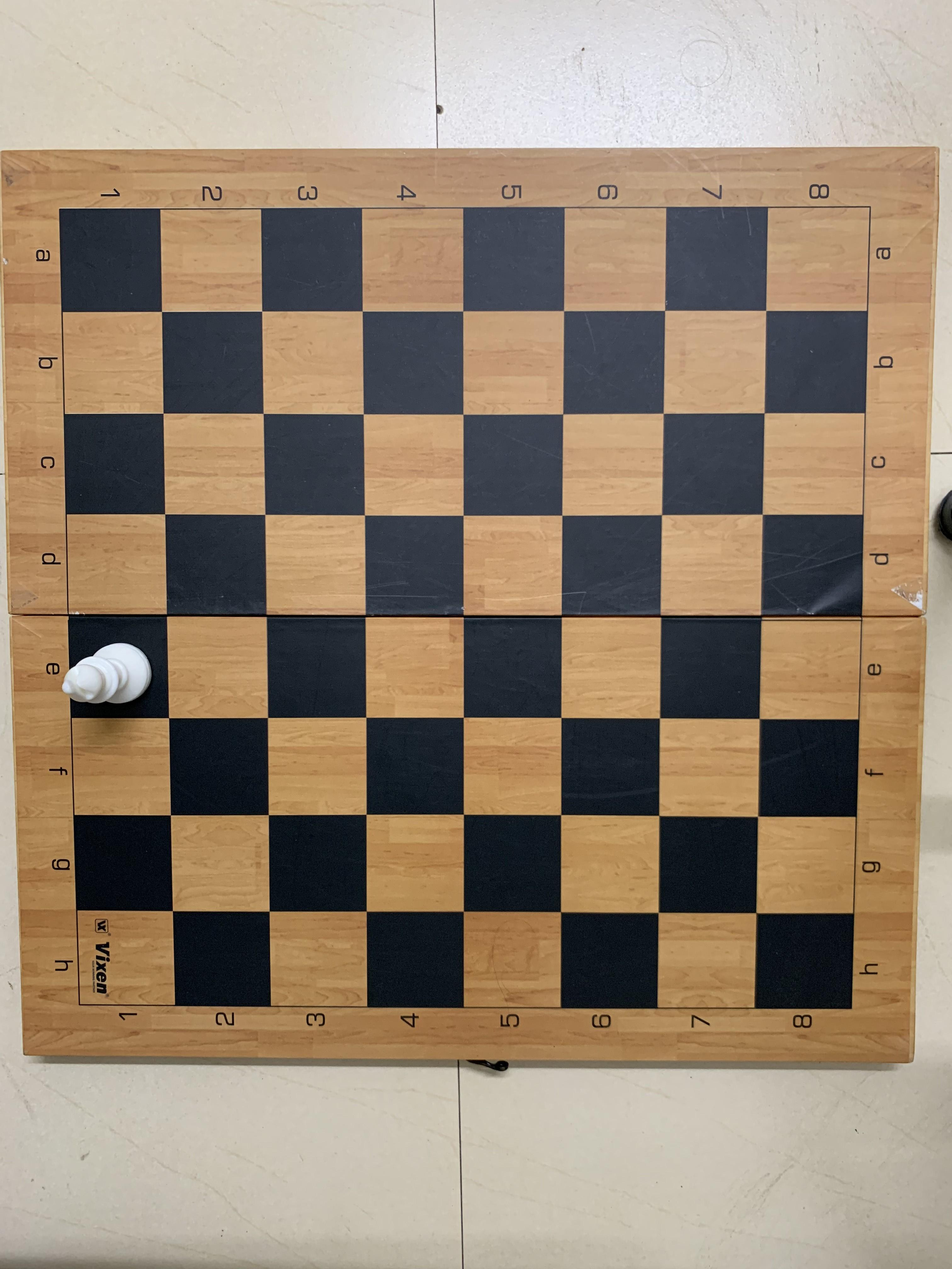white_bishop: (57, 615, 170, 712)
